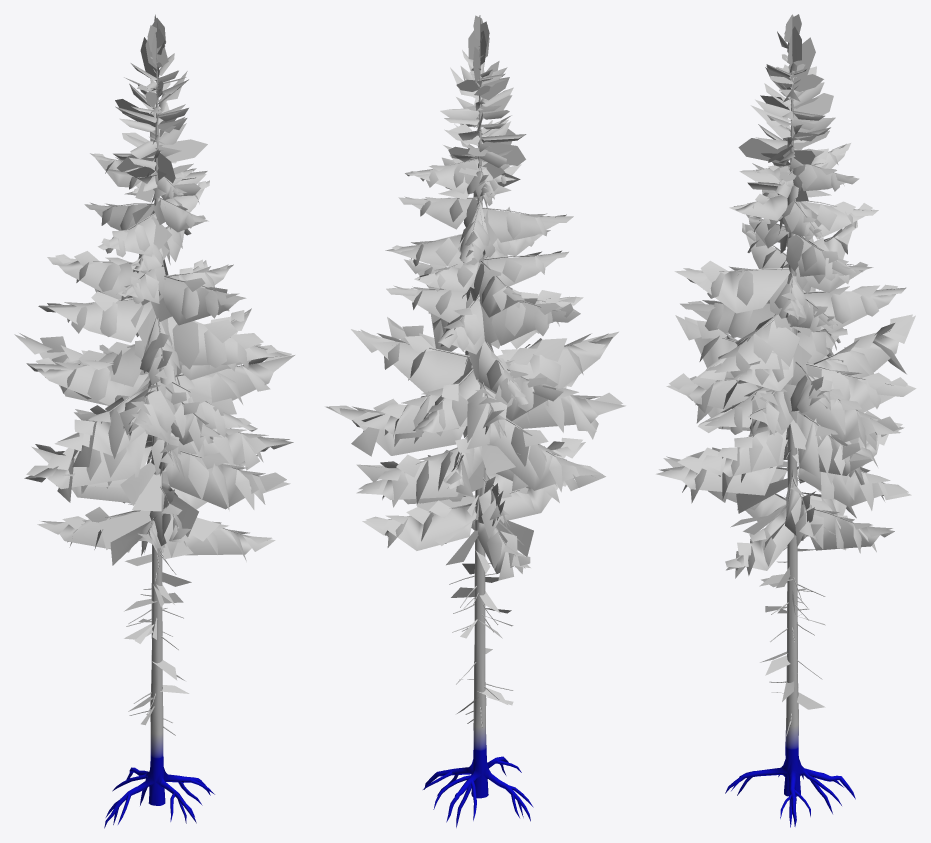
Rendered from Spruce_Tree3_LOD1.fbx.
3 renders of one model, left to right at view 1: azimuth 30°, elevation 25°; view 2: azimuth 150°, elevation 25°; view 3: azimuth 270°, elevation 25°, orthographic.
Parts seen in each view (by area): view 1: polySurface2730; view 2: polySurface2730; view 3: polySurface2730.
Boxes of the visible parts, x1,y1,x2,y2 form: polySurface2730: [14, 14, 294, 828]; polySurface2730: [325, 15, 625, 827]; polySurface2730: [656, 14, 916, 827].
Size of the model in its own units: 760 by 2377 by 703.
